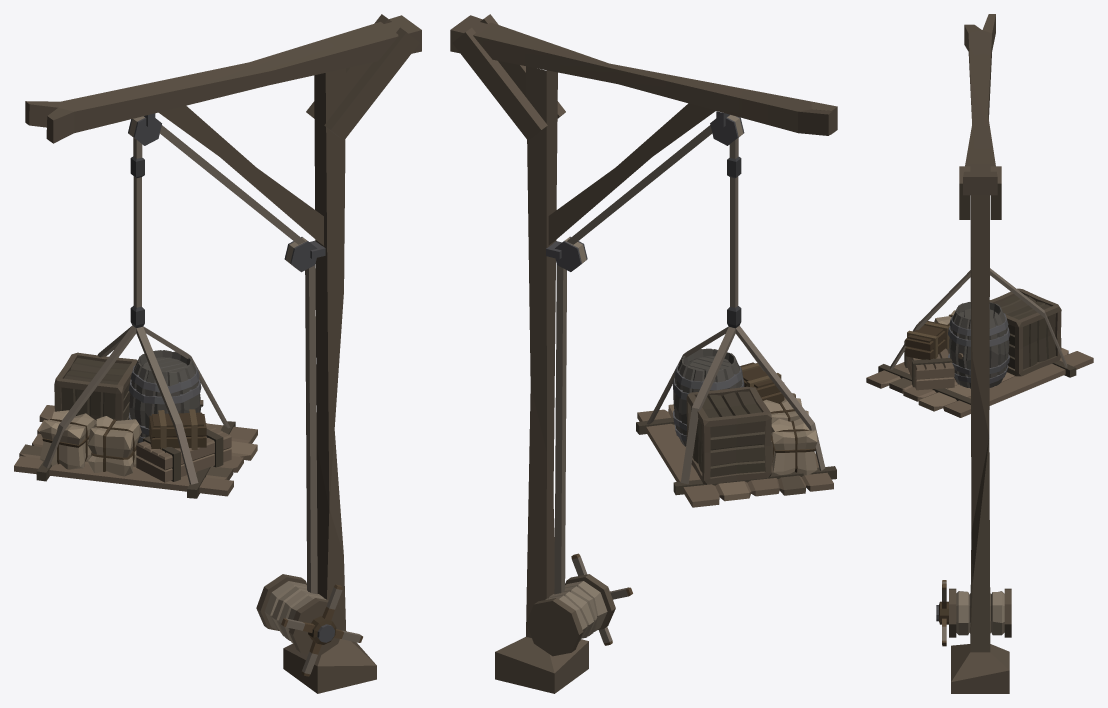
The model's file is SM_Prop_Crane_01.glb.
The picture shows the model from 3 angles, left to right: view 1: azimuth 30°, elevation 25°; view 2: azimuth 150°, elevation 25°; view 3: azimuth 270°, elevation 25°; orthographic projection. The views are drawn at different scales.
Visible parts, largest first — view 1: SM_Prop_Crane_01; view 2: SM_Prop_Crane_01; view 3: SM_Prop_Crane_01.
Boxes of the visible parts, x1,y1,x2,y2 form: SM_Prop_Crane_01: (14, 14, 421, 693); SM_Prop_Crane_01: (450, 14, 837, 693); SM_Prop_Crane_01: (866, 14, 1093, 693).
Size of the model in its own units: 0.0461 by 0.0729 by 0.0276.
